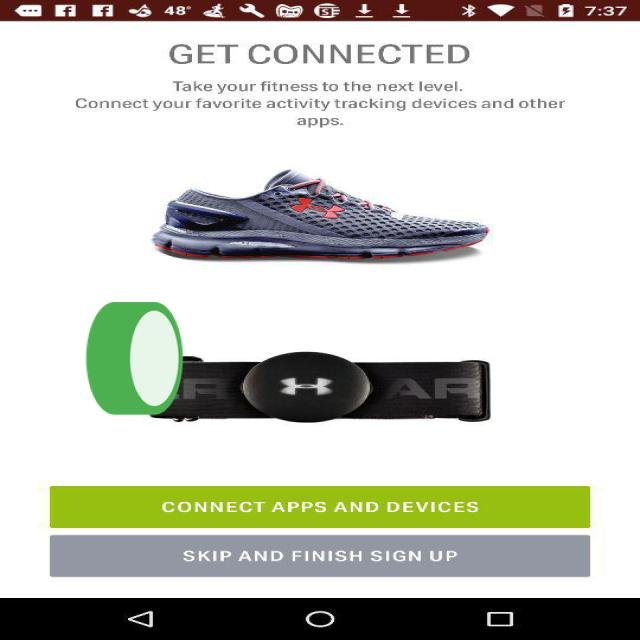social proof: (82, 258, 187, 466)
